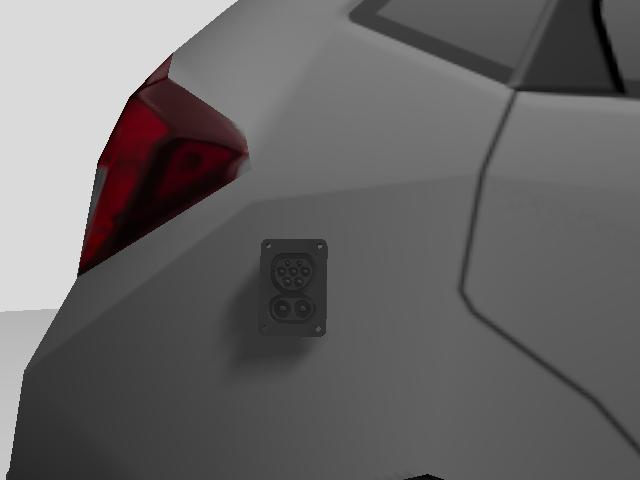EV-socket: (255, 236, 331, 340)
